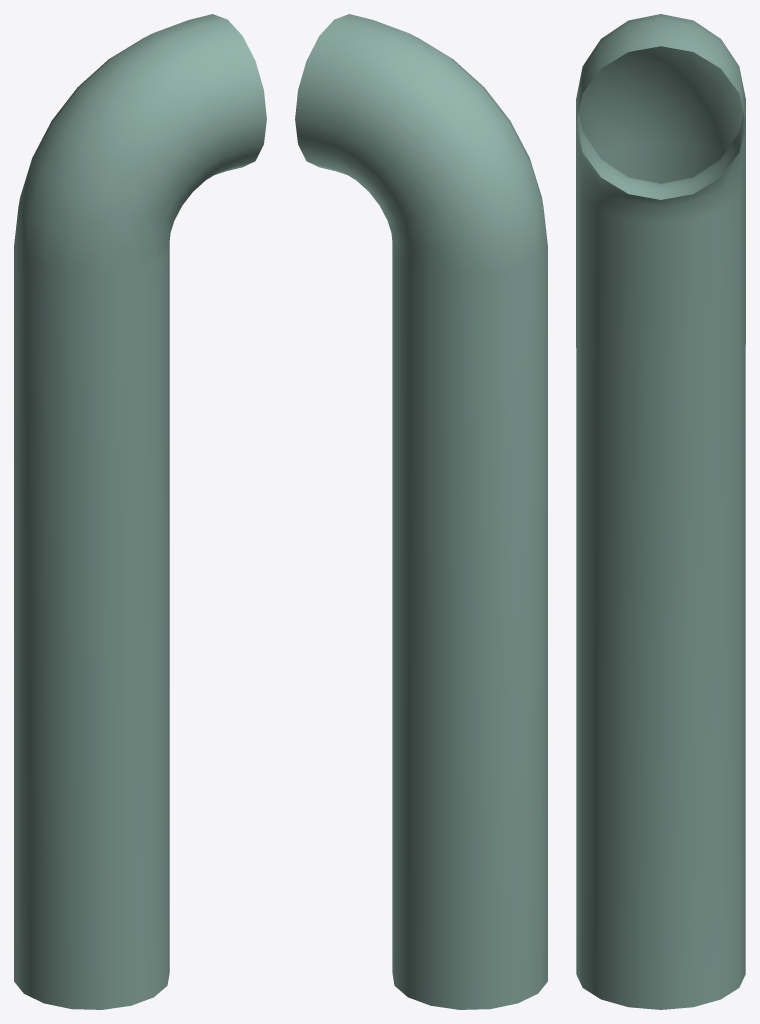
Rendered from PipeComplexLarge_A3_16.fbx.
3 views of the same model, side by side, from view 1: azimuth 30°, elevation 25°; view 2: azimuth 150°, elevation 25°; view 3: azimuth 270°, elevation 25° (orthographic). The views are drawn at different scales.
Parts seen in each view (by area): view 1: PipeComplexLarge_A3_16.001; view 2: PipeComplexLarge_A3_16.001; view 3: PipeComplexLarge_A3_16.001.
Part boxes in pixels (x1,y1,x2,y2): PipeComplexLarge_A3_16.001: (14,14,266,1009); PipeComplexLarge_A3_16.001: (295,14,547,1009); PipeComplexLarge_A3_16.001: (576,14,745,1009).
Size of the model in its own units: 0.3 by 1.3 by 0.2.
